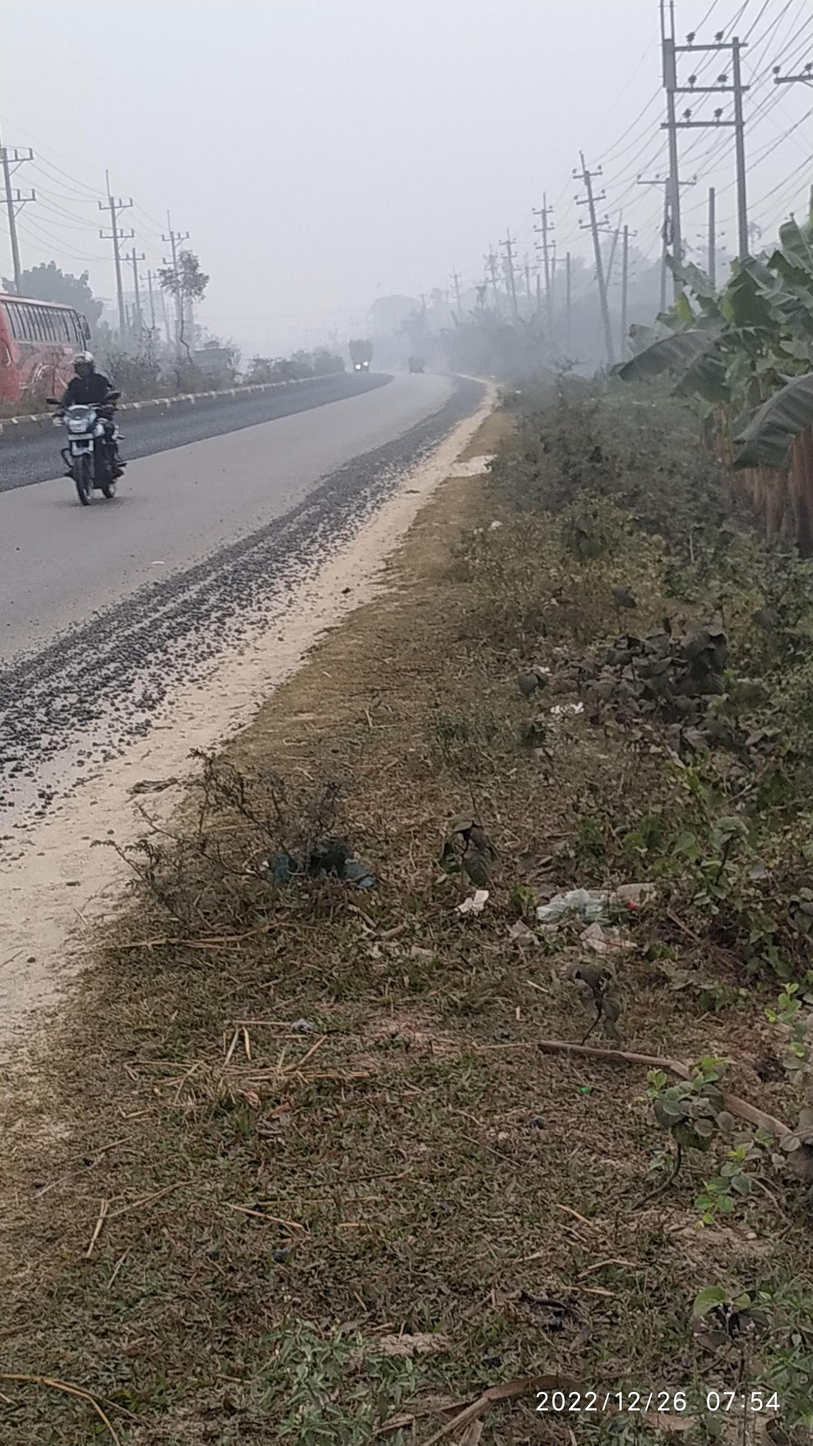Bike: (50, 340, 143, 521)
Bus: (4, 277, 104, 411)
